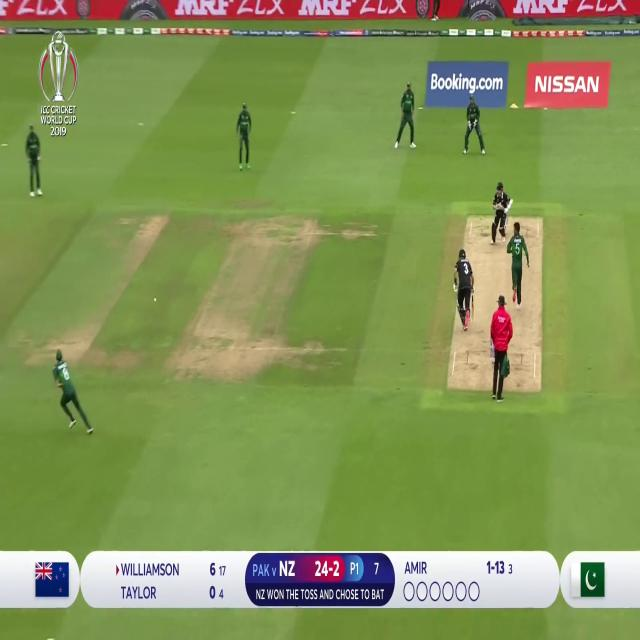bat: (492, 203, 506, 211), (471, 294, 474, 322)
